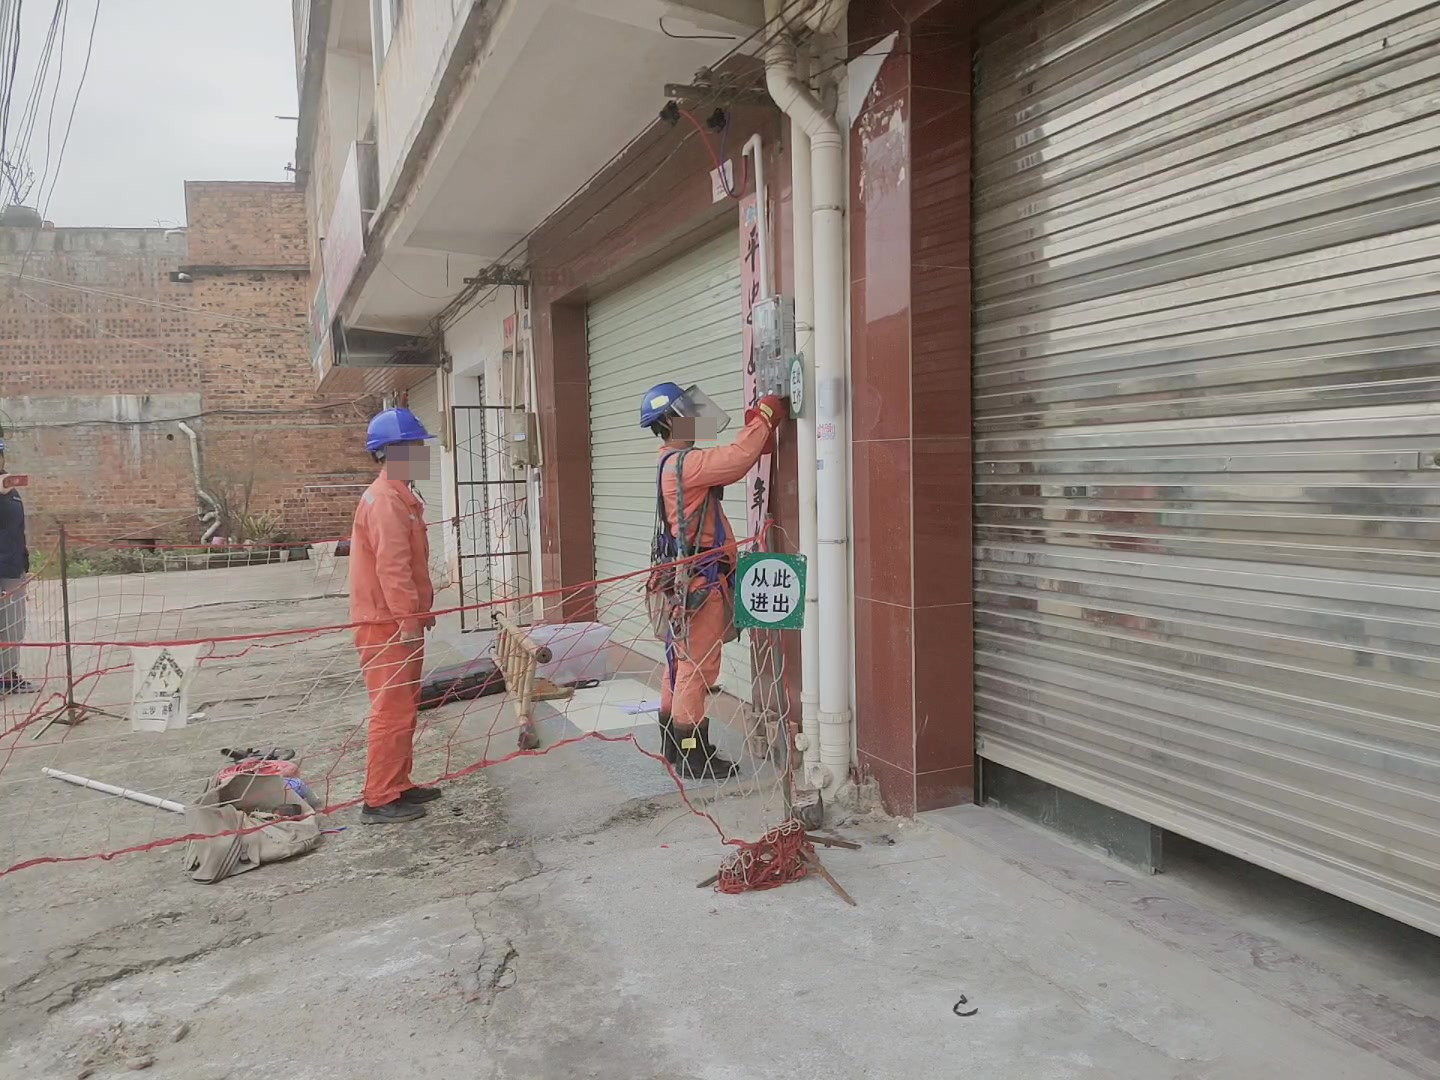downcloth: (1, 578, 27, 681)
halt: (638, 381, 730, 447), (363, 407, 437, 487)
hand: (396, 620, 424, 650)
inear: (657, 414, 688, 442), (387, 444, 409, 476)
intosign: (731, 550, 809, 633)
longglove: (745, 389, 784, 438)
person: (632, 377, 791, 782), (341, 402, 446, 827), (1, 451, 42, 701)
safebelt: (644, 446, 738, 669)
shoe: (653, 709, 737, 780)
upcloth: (1, 472, 27, 581)
worksign: (781, 346, 810, 418)
ydownsuit: (355, 626, 427, 808), (662, 563, 734, 725)
yupsuit: (645, 412, 770, 558), (348, 471, 435, 628)
